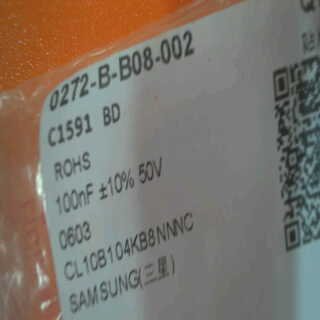100nF: (52, 180, 101, 216)
